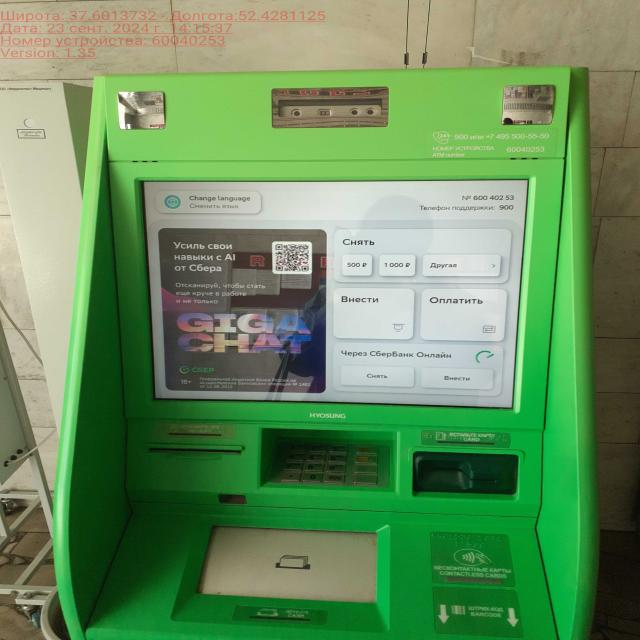bank: (55, 60, 600, 640)
